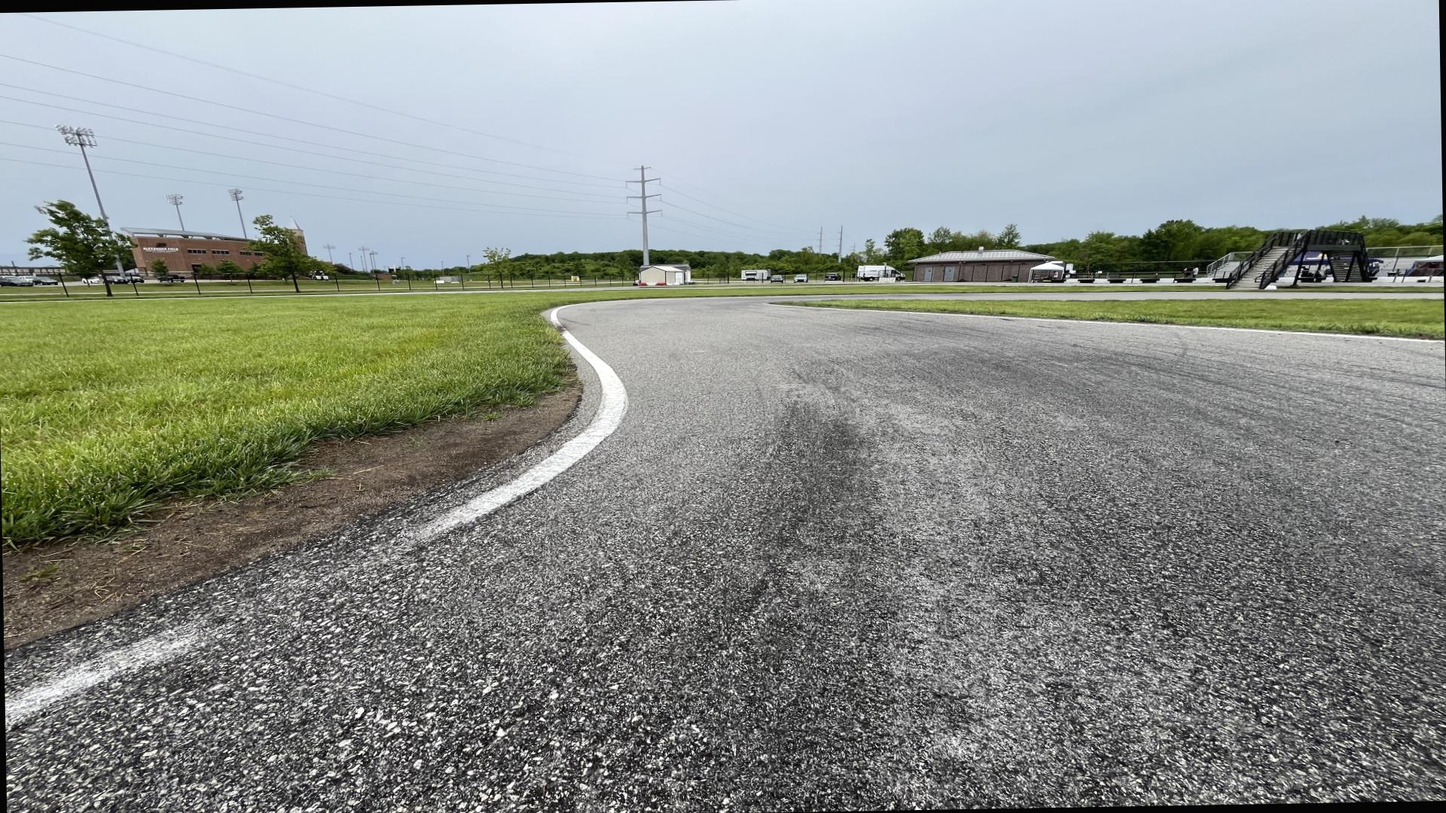white-line: (373, 296, 803, 562), (764, 303, 1444, 343), (5, 618, 226, 732)
